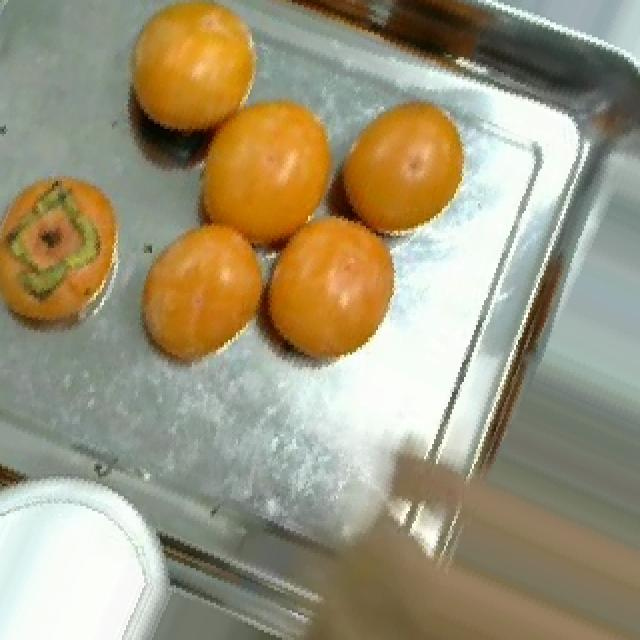Fruit: (174, 72, 360, 283), (242, 191, 428, 397), (318, 74, 488, 263), (124, 203, 282, 390), (0, 156, 138, 357), (110, 0, 276, 156)
